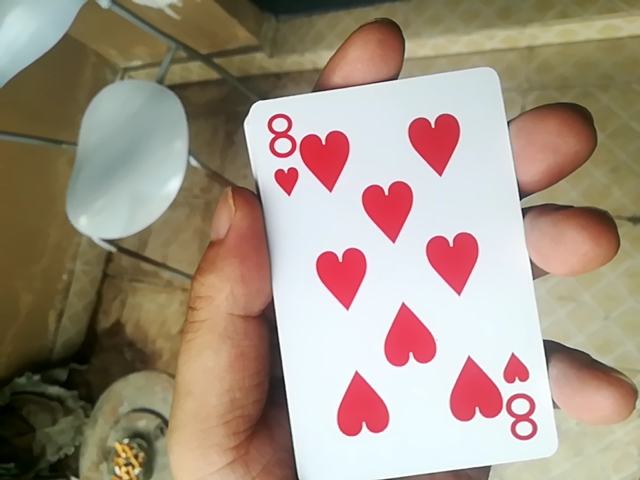hx 8: (259, 57, 555, 480)
